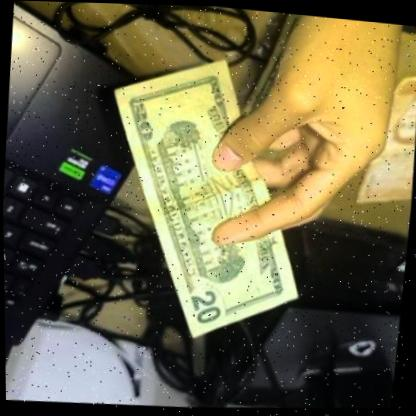twenty-back: (85, 38, 328, 361)
